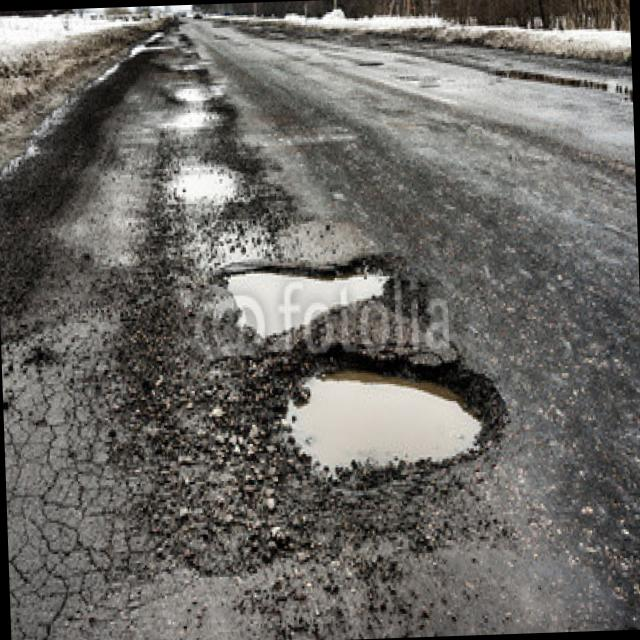Potholes: (254, 338, 528, 506), (196, 252, 421, 354), (147, 146, 265, 227), (165, 100, 265, 166), (169, 74, 245, 114)
